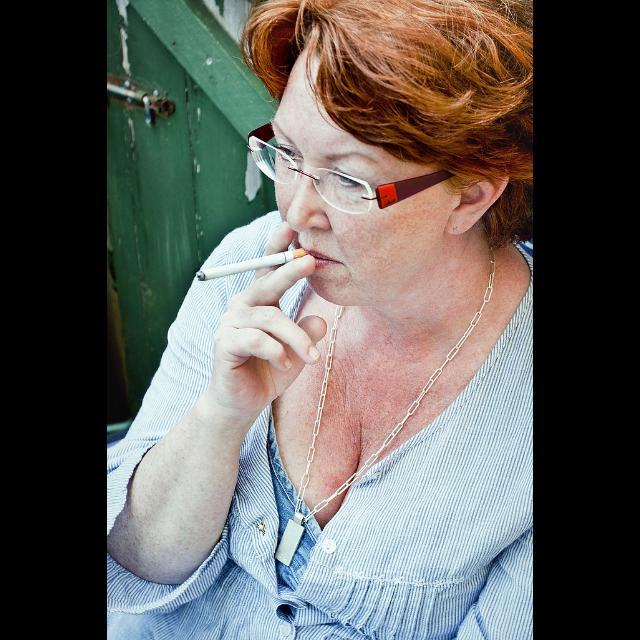rokok: (195, 244, 307, 286)
